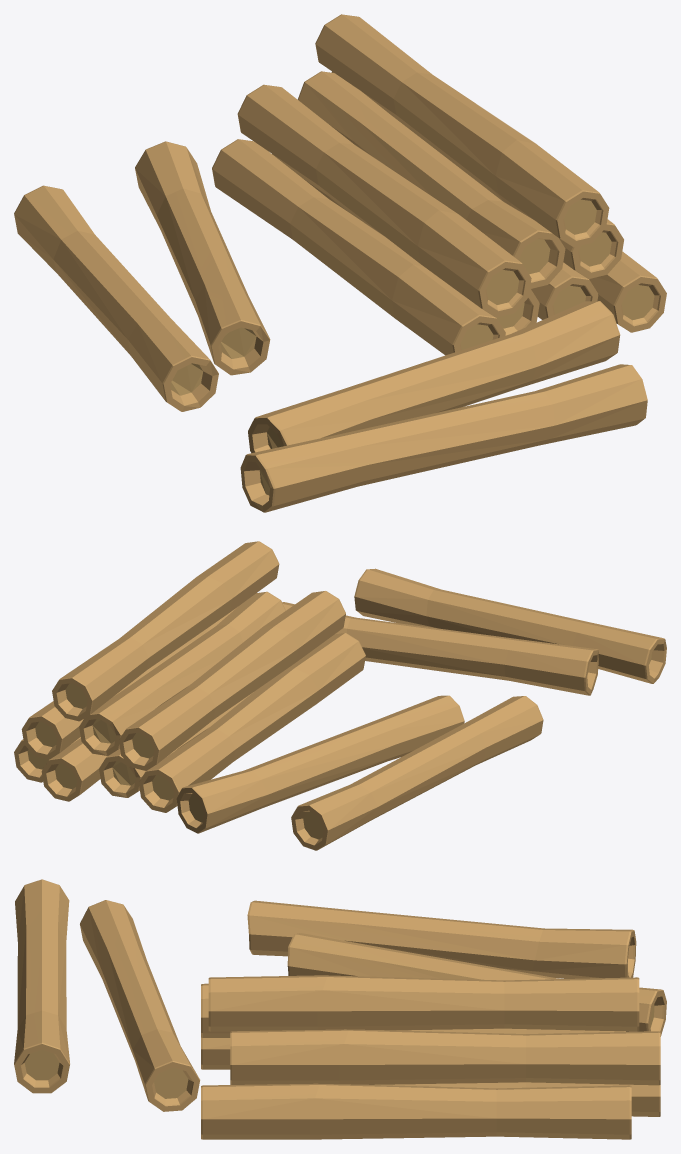
The model's file is logs_a.gltf.
3 renders of one model, top to bottom at view 1: azimuth 30°, elevation 25°; view 2: azimuth 150°, elevation 25°; view 3: azimuth 270°, elevation 25°, orthographic. The views are drawn at different scales.
Parts seen in each view (by area): view 1: logs_a001; view 2: logs_a001; view 3: logs_a001.
Part boxes in pixels (box(x1,y1,x2,y2)): logs_a001: box(14, 14, 666, 512); logs_a001: box(14, 541, 666, 850); logs_a001: box(14, 879, 666, 1139).
Size of the model in its own units: 2.79 by 0.8145 by 3.54.
1 material, 1 textured.
